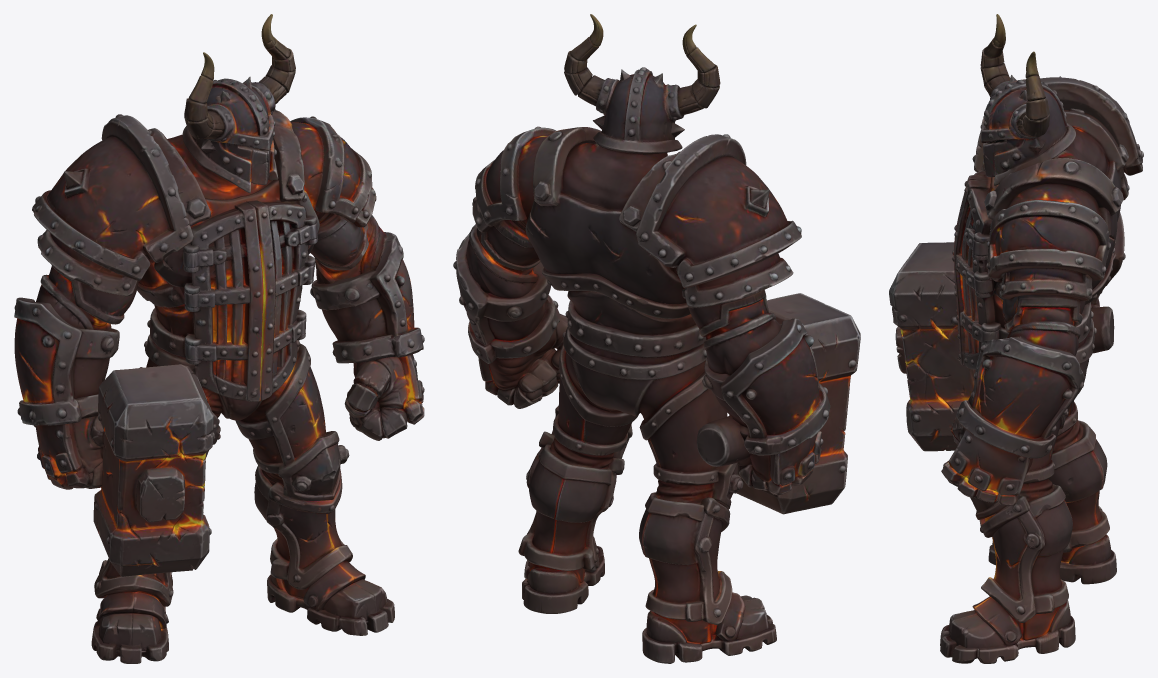
The model's file is ignivar.glb.
3 renders of one model, left to right at view 1: azimuth 30°, elevation 25°; view 2: azimuth 150°, elevation 25°; view 3: azimuth 270°, elevation 25°, orthographic. The views are drawn at different scales.
Visible parts, largest first — view 1: tripo_node_3950f2c8-bab9-4208-9fd0-e3a488998ea6; view 2: tripo_node_3950f2c8-bab9-4208-9fd0-e3a488998ea6; view 3: tripo_node_3950f2c8-bab9-4208-9fd0-e3a488998ea6.
Part boxes in pixels (x1,y1,x2,y2): tripo_node_3950f2c8-bab9-4208-9fd0-e3a488998ea6: (14, 14, 424, 663); tripo_node_3950f2c8-bab9-4208-9fd0-e3a488998ea6: (453, 14, 860, 663); tripo_node_3950f2c8-bab9-4208-9fd0-e3a488998ea6: (889, 14, 1143, 663).
Size of the model in its own units: 0.6345 by 0.9821 by 0.3956.
1 material, 1 textured.
